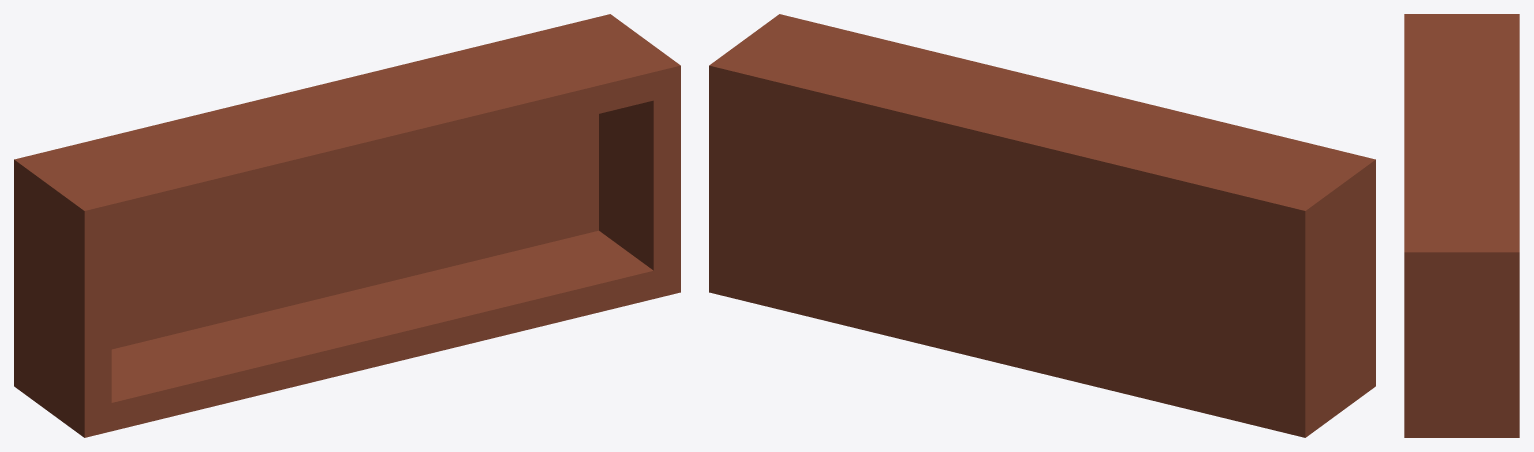
The model's file is shelf_drawer.glb.
The picture shows the model from 3 angles, left to right: view 1: azimuth 30°, elevation 25°; view 2: azimuth 150°, elevation 25°; view 3: azimuth 270°, elevation 25°; orthographic projection. The views are drawn at different scales.
Parts seen in each view (by area): view 1: generated(Clone); view 2: generated(Clone); view 3: generated(Clone).
Part boxes in pixels (bbox=[...]): generated(Clone): bbox=[14, 14, 680, 437]; generated(Clone): bbox=[709, 14, 1375, 437]; generated(Clone): bbox=[1404, 14, 1519, 437].
Size of the model in its own units: 2.2 by 0.8 by 0.45.
